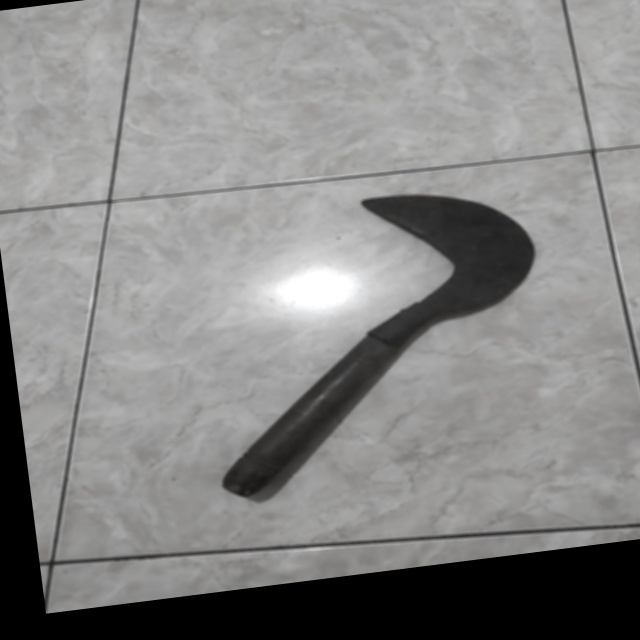Sharp-Object: (181, 165, 574, 500)
